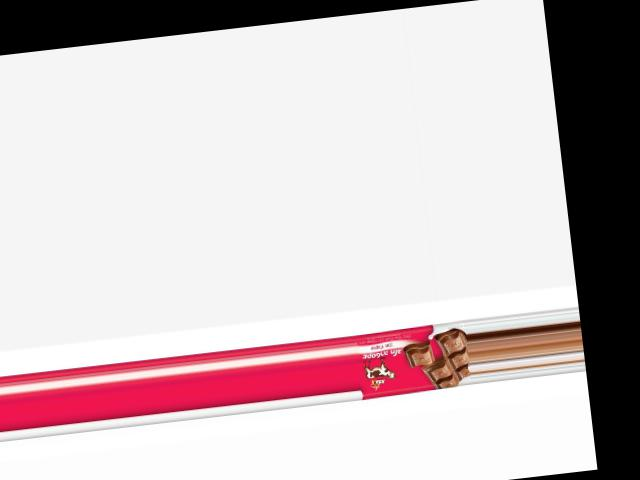chocolate: (353, 321, 470, 399)
